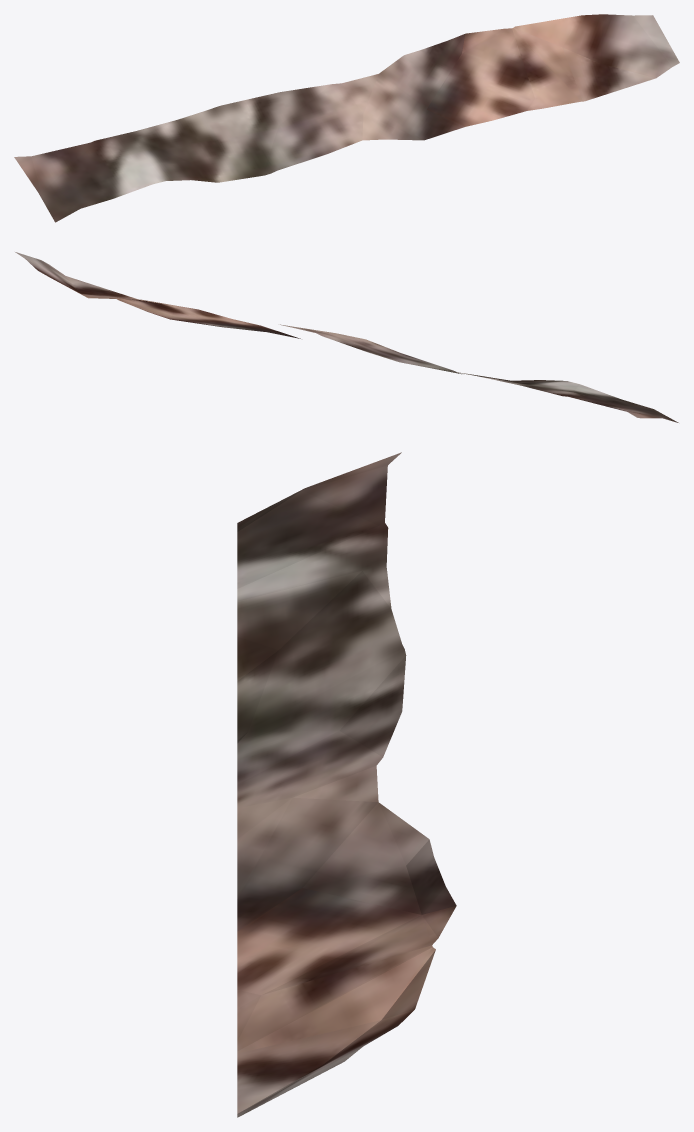
3 views of the same model, one above another, from view 1: azimuth 30°, elevation 25°; view 2: azimuth 150°, elevation 25°; view 3: azimuth 270°, elevation 25° (orthographic). The views are drawn at different scales.
Bounding box in the file's own units: 0.8373 × 0.0555 × 0.1274.
1 material, 1 textured.
